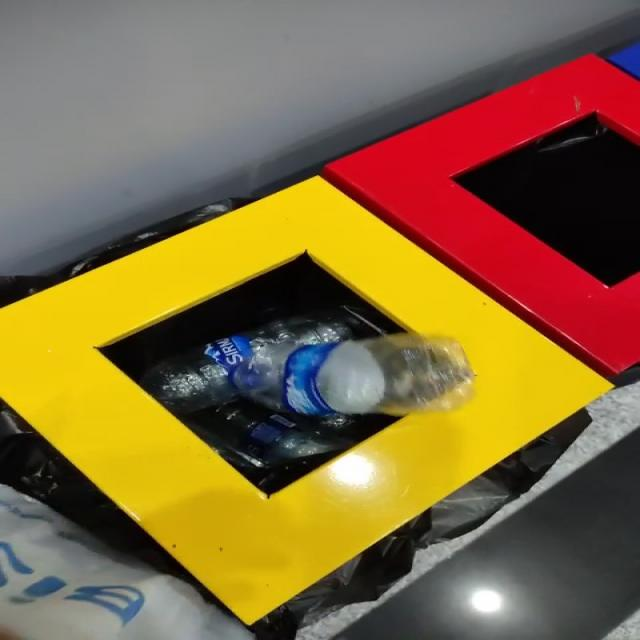plastic: (229, 334, 472, 416)
